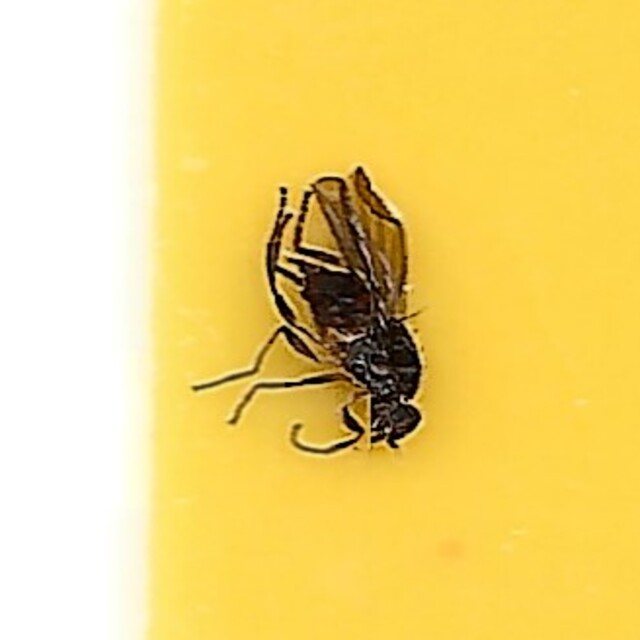Brachycera: (195, 168, 445, 472)
